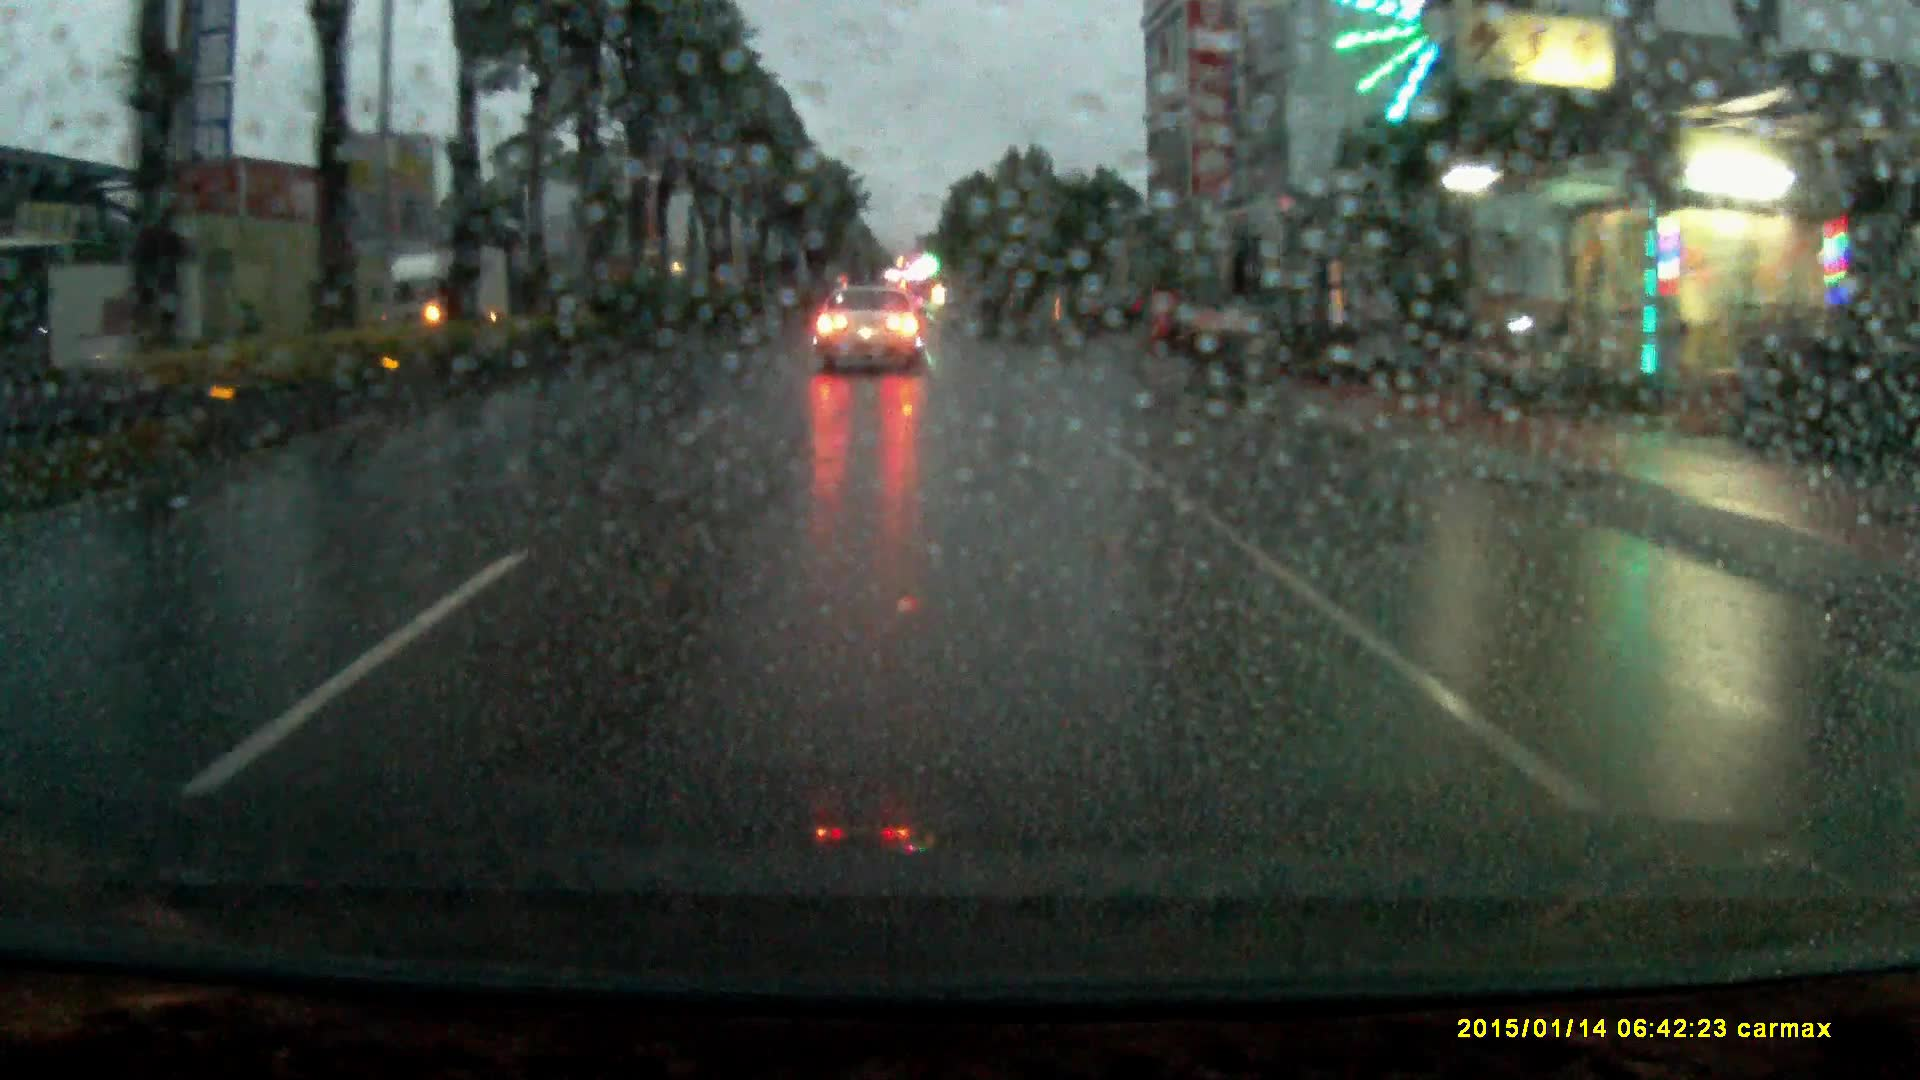vehicle: (814, 290, 920, 385), (382, 248, 508, 327), (1063, 290, 1139, 340)
